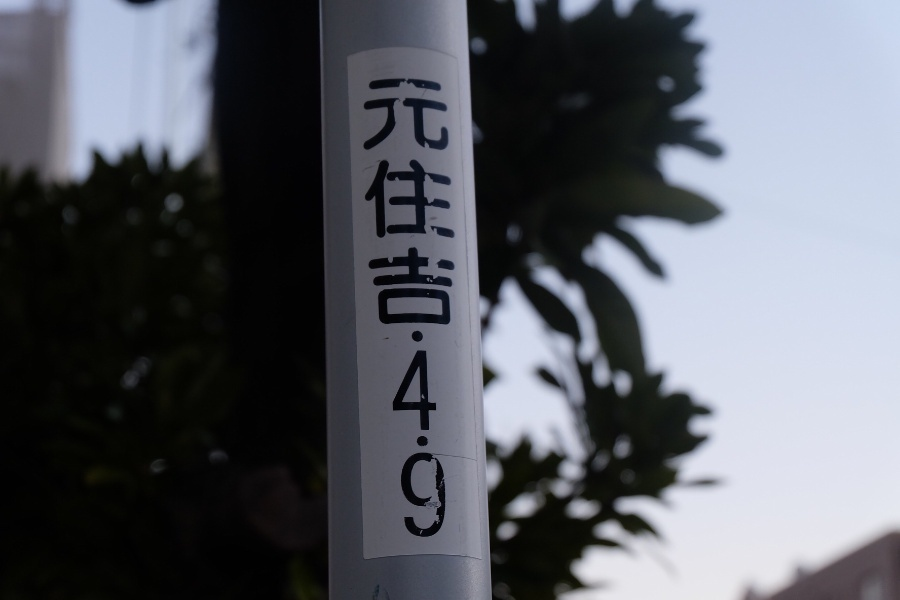text: (369, 74, 384, 543), (385, 74, 400, 543), (401, 74, 416, 543), (417, 74, 432, 543), (433, 74, 448, 543), (359, 74, 368, 543), (449, 74, 458, 543)
